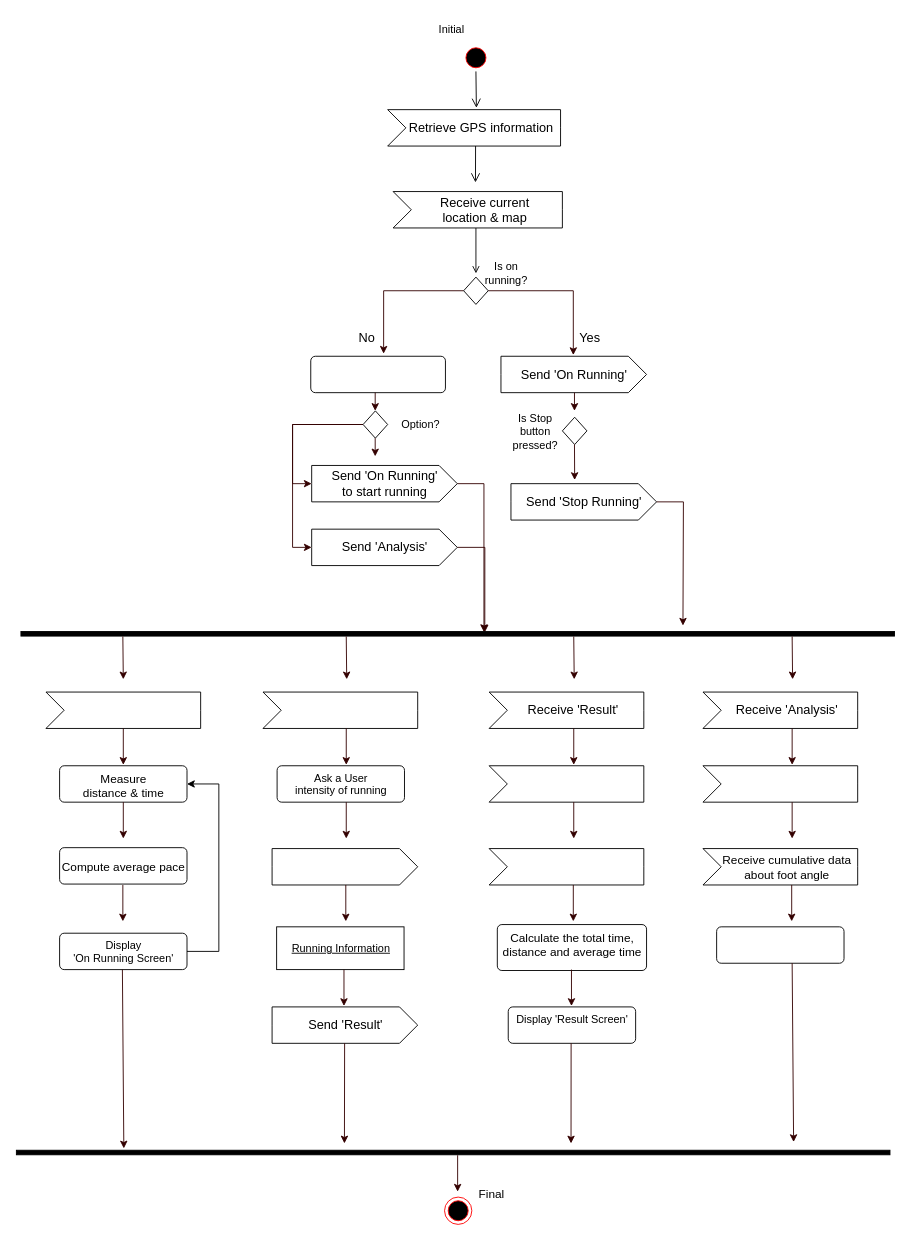
The diagram is 910 pixels wide and 1240 high, and some of its shapes have lost their labels. The box of each missing label's shape, as (x1, y1, x2, y2) in pixels:
Display 'Analysis Screen': (716, 926, 844, 963)
Display 'Main Screen': (310, 355, 445, 393)
Receive 'On Running': (45, 691, 201, 728)
Receive 'Stop Running': (262, 691, 418, 728)
Receive cumulative data about intensity: (702, 765, 858, 802)
Receive foot angle data: (488, 765, 644, 802)
Receive landing location data: (488, 848, 644, 885)
Send running information: (271, 848, 418, 885)
